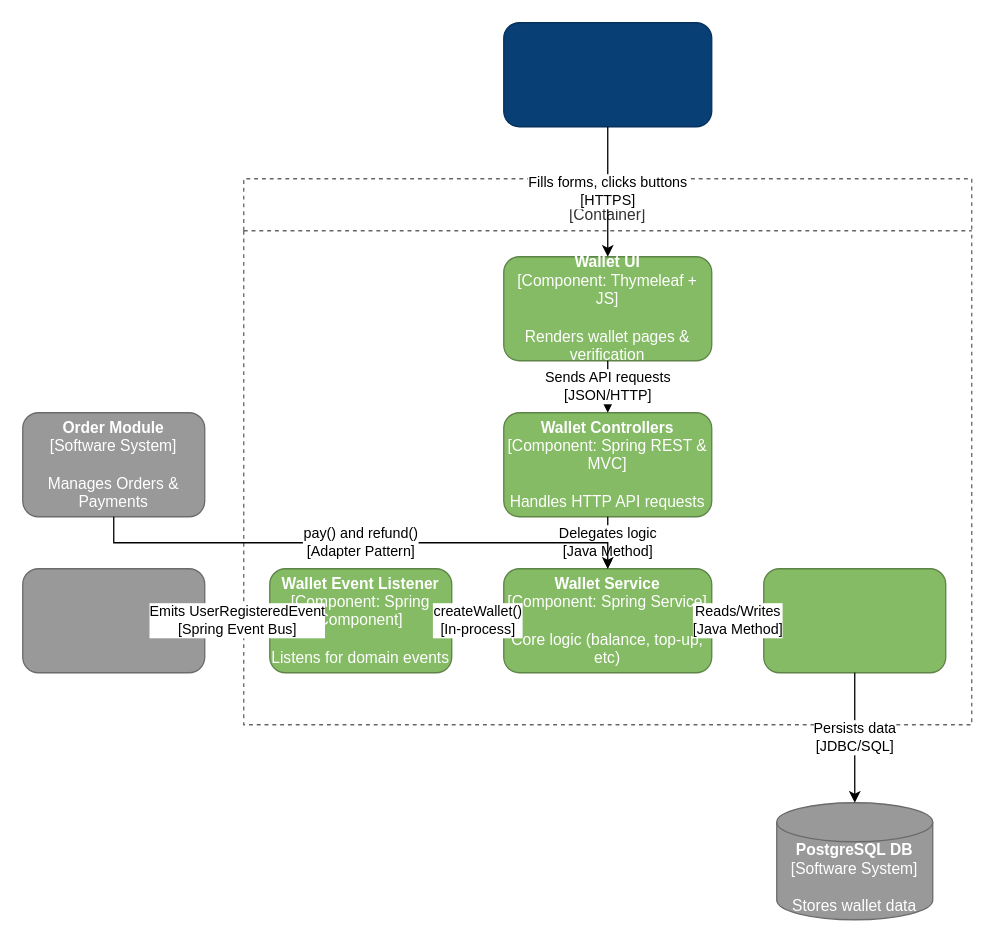
Some shapes in this 994 by 942 pixel diagram are drawn without their labels. Each missing label, with the centre of its shape:
"Auth Module [Software System] Manages Users & KYC" goes at (113,620).
"User [Person] Titiper / Jastiper / Admin" goes at (607,74).
"Wallet Repositories [Component: Spring Data JPA] DB operations" goes at (854,620).
